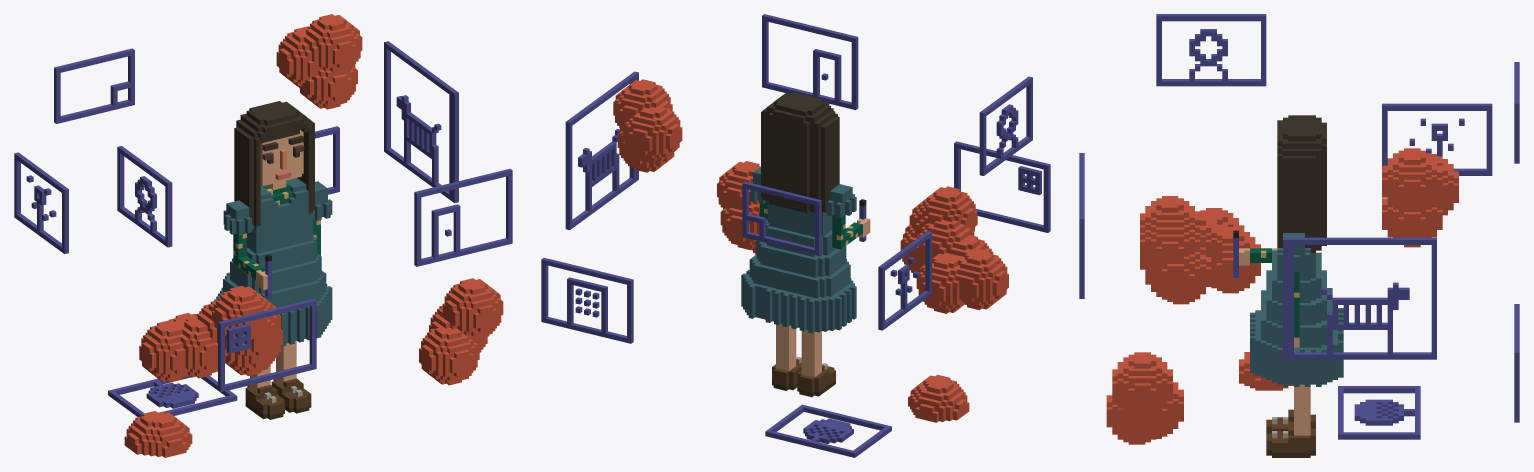
3 views of the same model, side by side, from view 1: azimuth 30°, elevation 25°; view 2: azimuth 150°, elevation 25°; view 3: azimuth 270°, elevation 25° (orthographic). The views are drawn at different scales.
Parts seen in each view (by area): view 1: new.vox-1; view 2: new.vox-1; view 3: new.vox-1.
Boxes of the visible parts, left/top/right/bottom form: new.vox-1: left=14, top=14, right=512, bottom=457; new.vox-1: left=541, top=14, right=1050, bottom=457; new.vox-1: left=1079, top=14, right=1519, bottom=457.
Size of the model in its own units: 8 by 7.1 by 8.
Materials: 1 (1 with a texture image).
